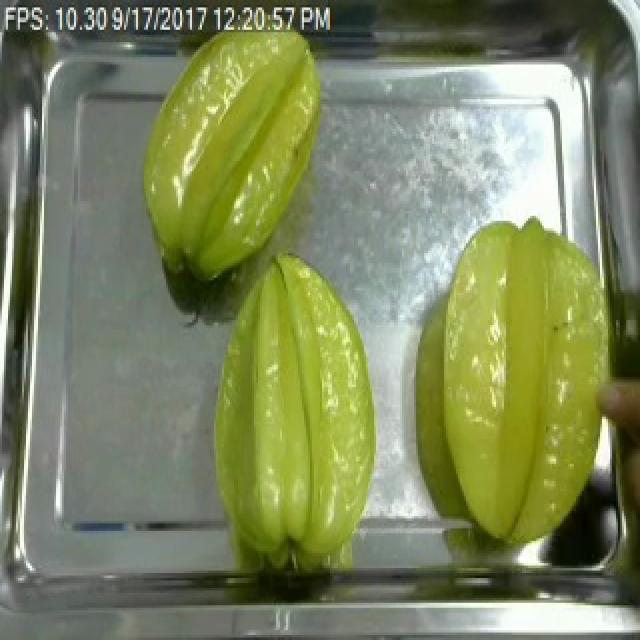fruit: (410, 208, 626, 560), (196, 243, 388, 583), (130, 20, 330, 298)
